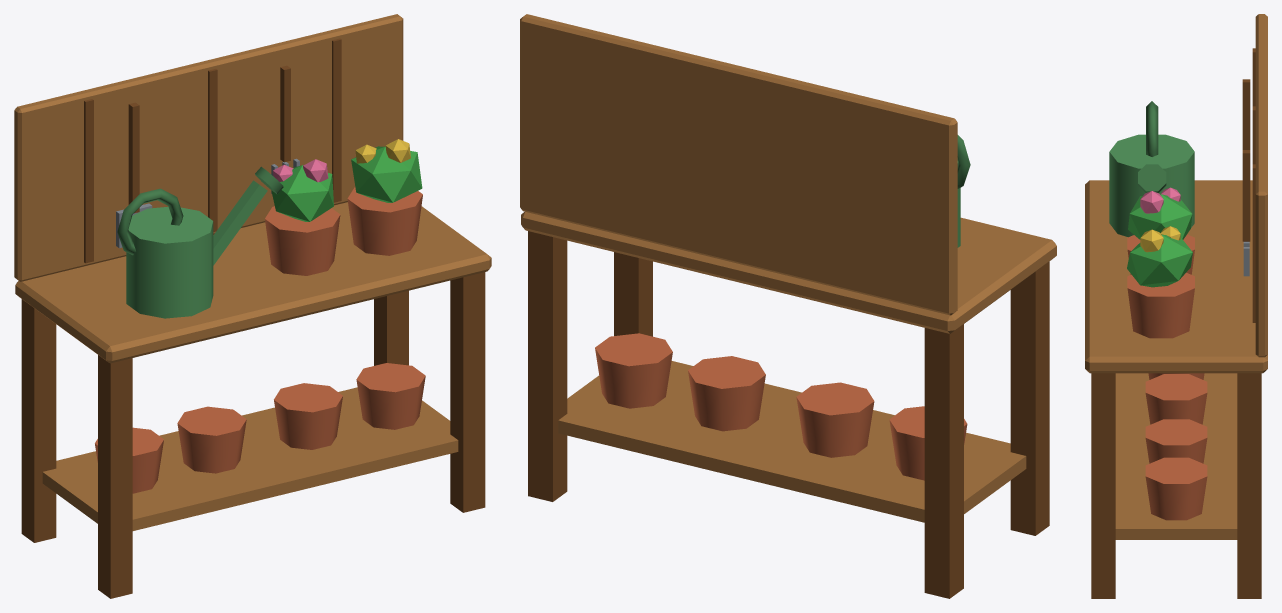
File: greenhouse-prop3.glb
3 views of the same model, side by side, from view 1: azimuth 30°, elevation 25°; view 2: azimuth 150°, elevation 25°; view 3: azimuth 270°, elevation 25° (orthographic). The views are drawn at different scales.
Visible parts, largest first — view 1: greenhouse-prop3; view 2: greenhouse-prop3; view 3: greenhouse-prop3.
Part boxes in pixels (left/top/right/bottom): greenhouse-prop3: left=14, top=14, right=491, bottom=598; greenhouse-prop3: left=520, top=14, right=1056, bottom=598; greenhouse-prop3: left=1085, top=14, right=1267, bottom=598.
Size of the model in its own units: 1.4 by 1.48 by 0.6.
